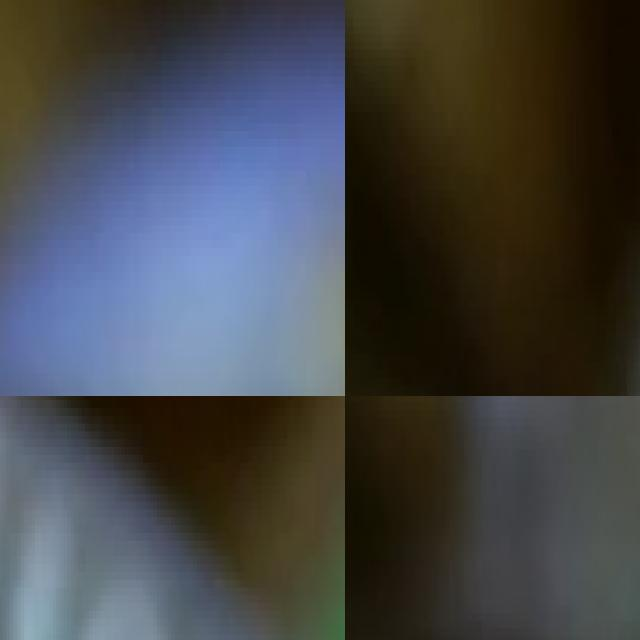fish: (0, 0, 345, 396)
